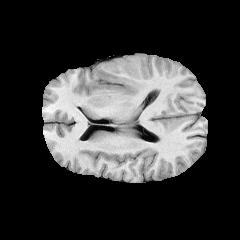glioma: (96, 66, 140, 95)
